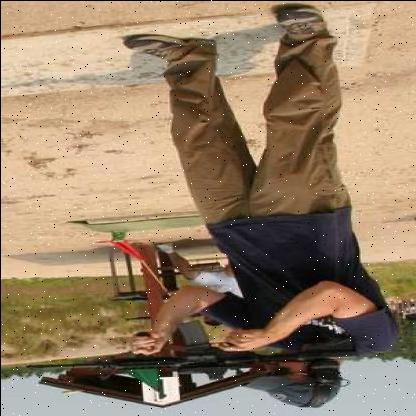rifle: (11, 306, 371, 384)
